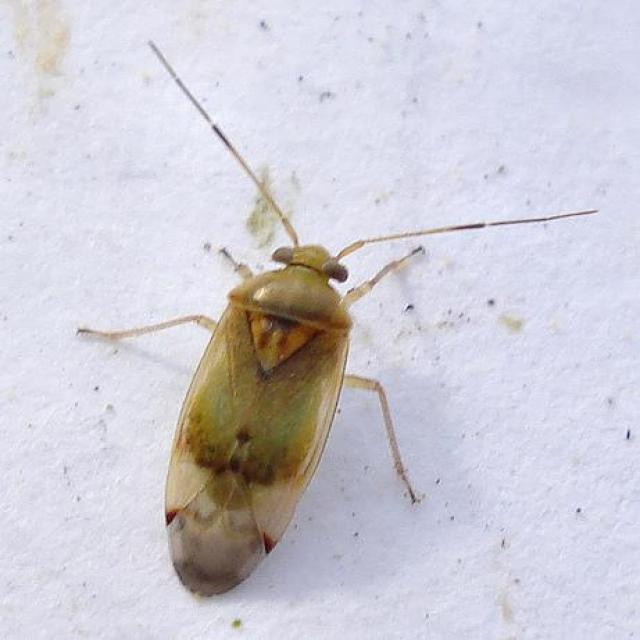Miridae-Adult-: (70, 35, 462, 602)
